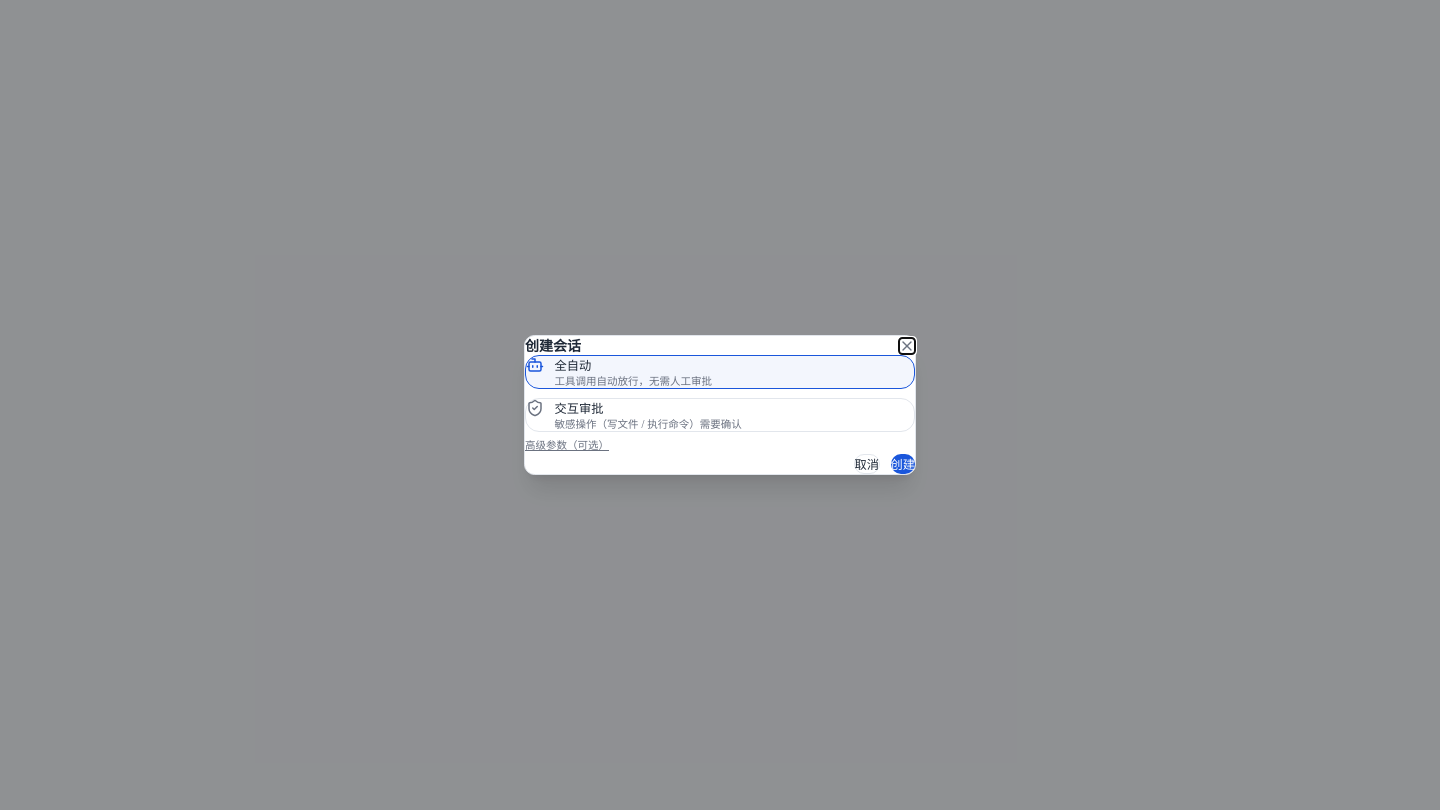
Test: CreateDialog 容器池错误映射（F4） › 429 频率限流（detail=Rate limit）→「请求过于频繁」
Click the button "创建".
click(903, 464)  # box [890, 454, 915, 474]
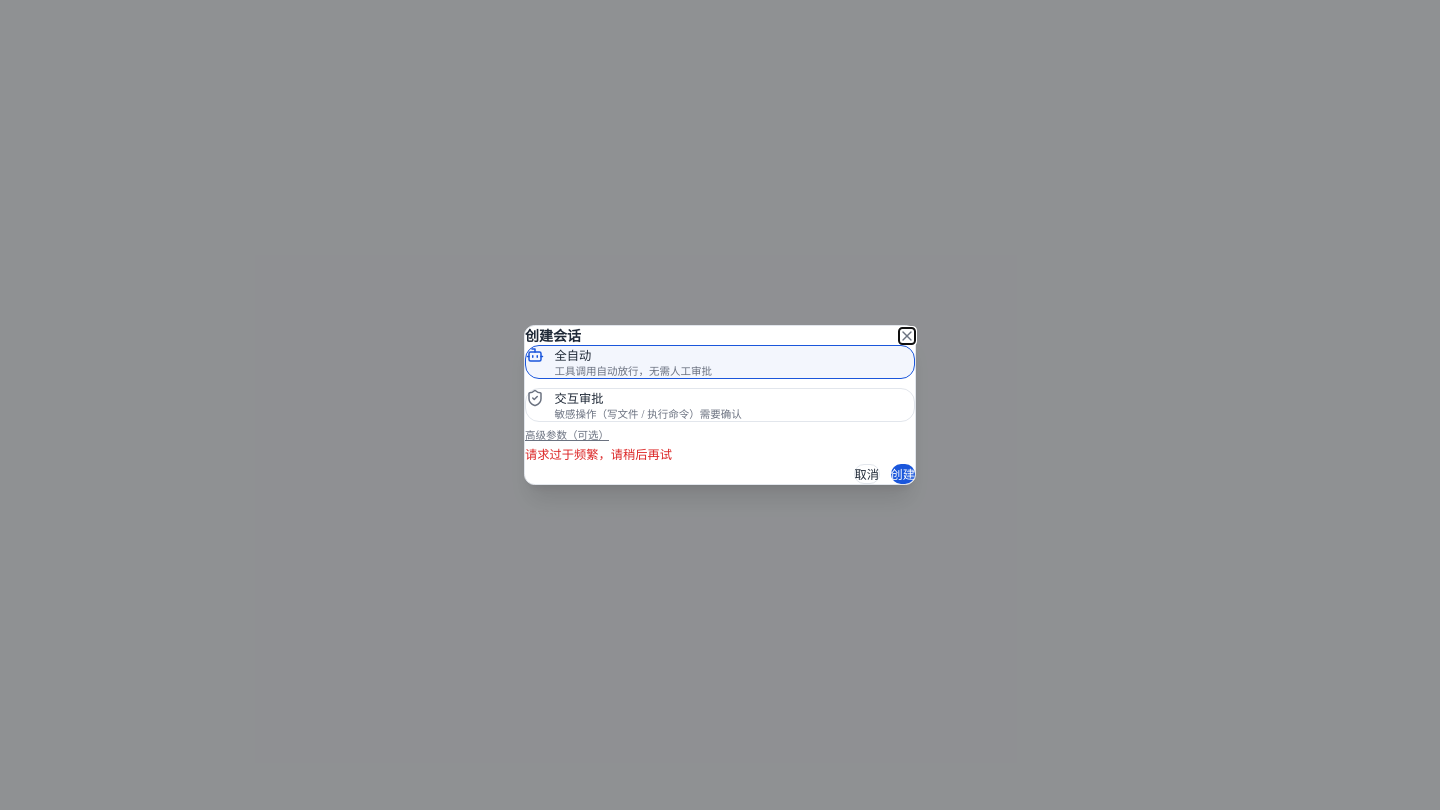
Expected: the message reads "请求过于频繁，请稍后再试", [525, 445, 672, 462]
